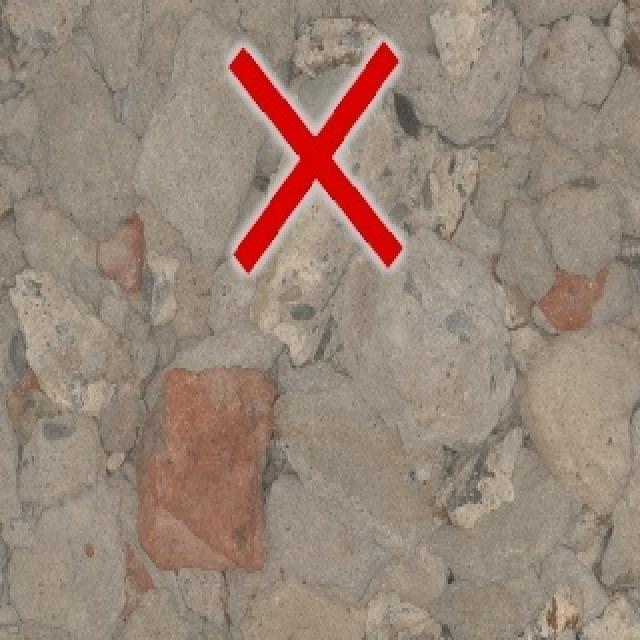x_marker: (229, 41, 401, 271)
